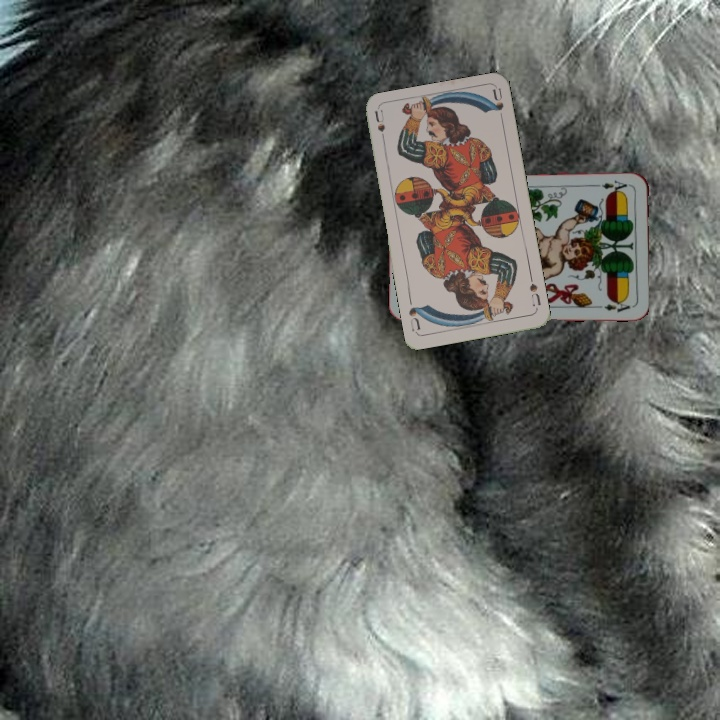EA: (598, 176, 632, 195)
SU: (370, 107, 388, 148), (525, 272, 543, 309)
